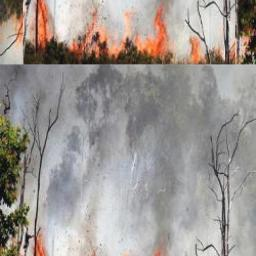Heavy smoke: (10, 0, 256, 256)
Small fire: (21, 20, 242, 59)
